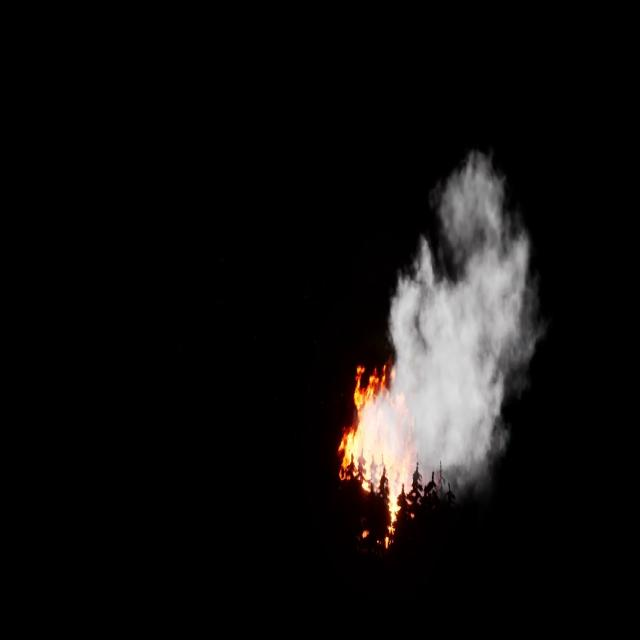fire: (334, 363, 428, 538)
smoke: (368, 150, 544, 488)
